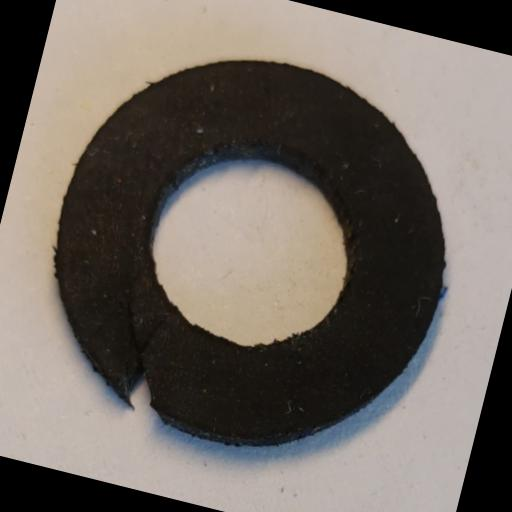defect: (100, 304, 176, 417)
